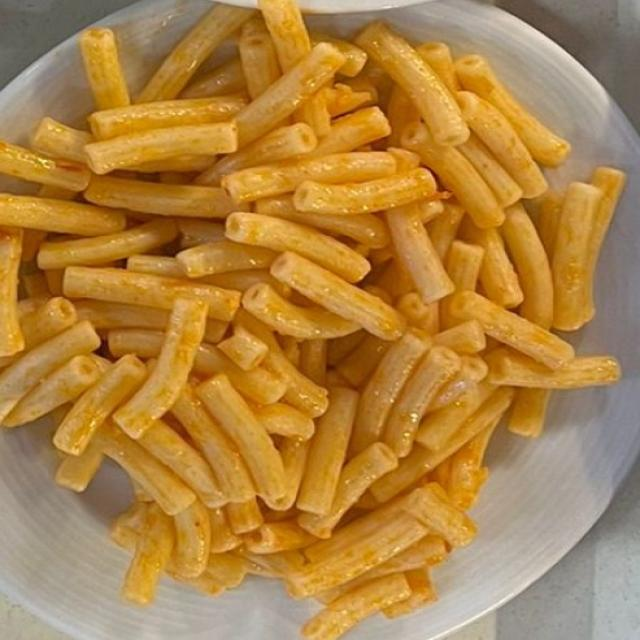ana_yemek: (0, 0, 631, 639)
